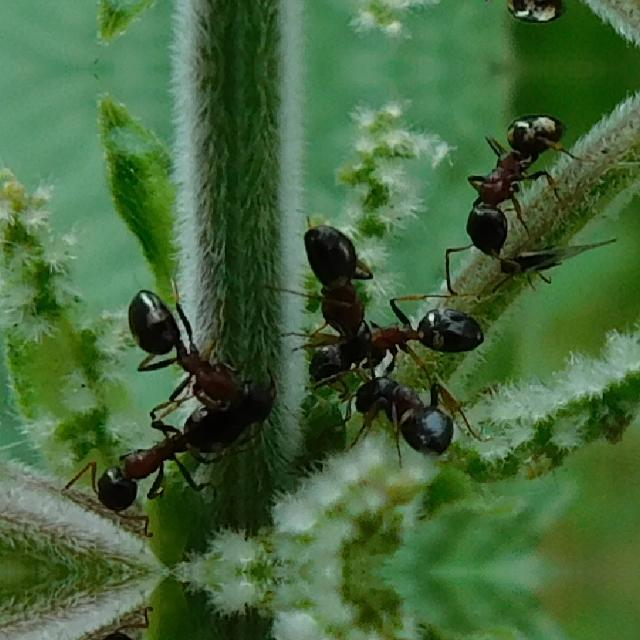Dolichoderus: (61, 397, 255, 525), (436, 102, 580, 272), (110, 275, 274, 423), (322, 280, 500, 378), (281, 219, 384, 379), (338, 356, 484, 464), (436, 0, 580, 34)
